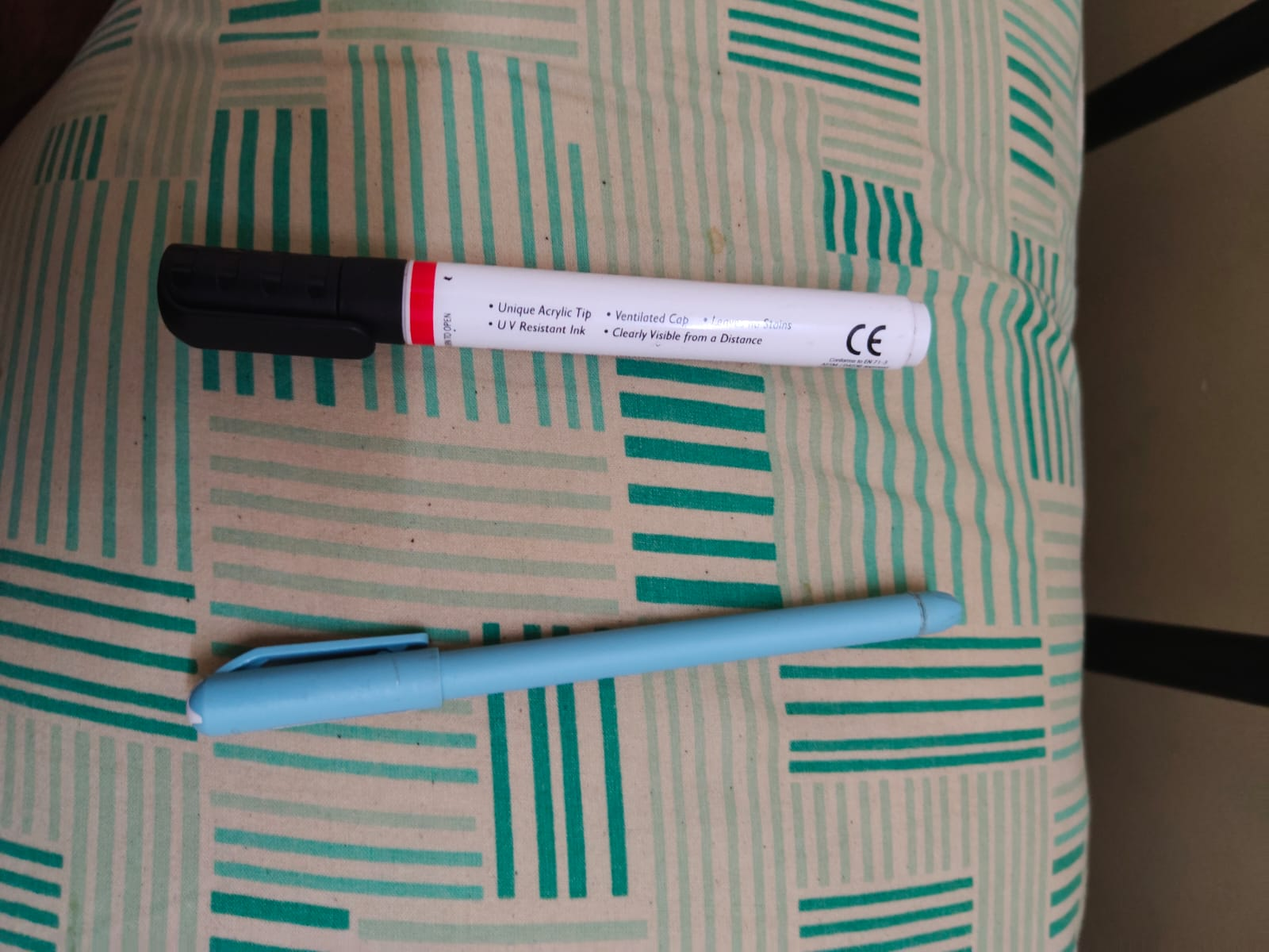case: (141, 193, 968, 409)
pen: (179, 556, 984, 756)
